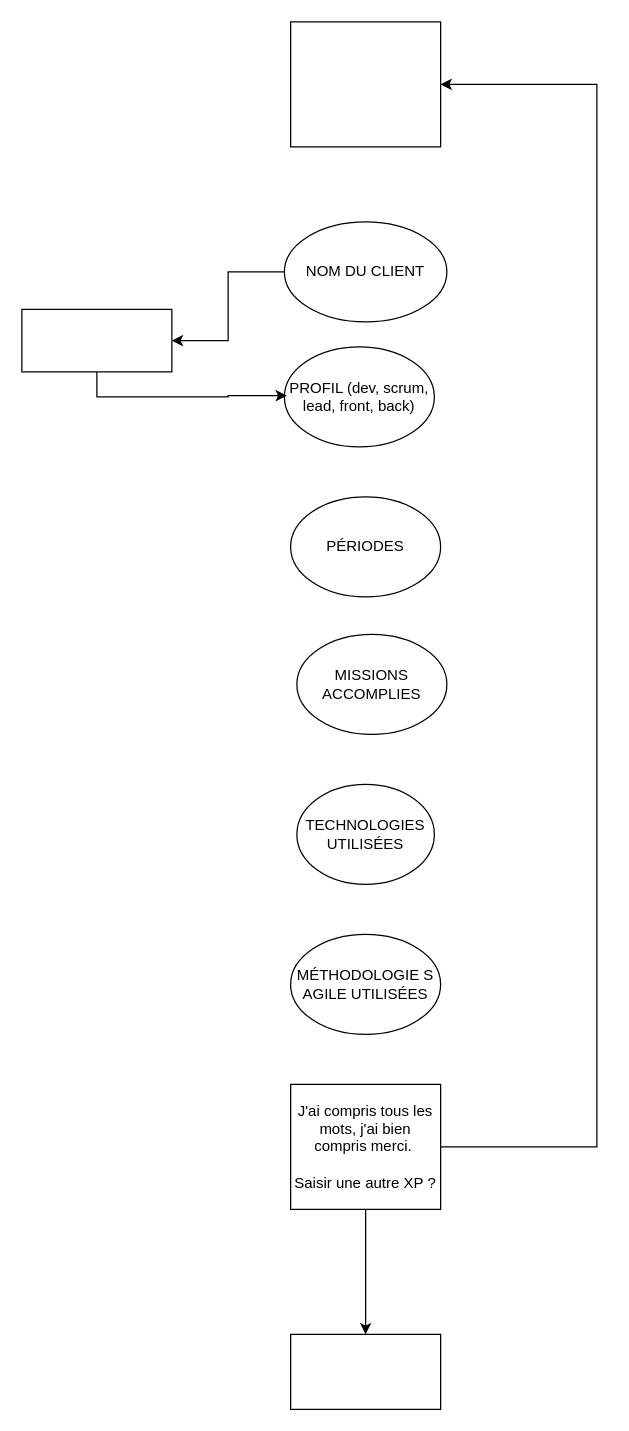
The diagram is 629 pixels wide and 1431 high, and some of its shapes have lost their labels. Here are the shapes that lost their labels. From the top down, the box of each, then its label:
(289, 21, 441, 147): J'ai besoin de toi pour me décrire ta dernière expérience. Quel est ...
(21, 308, 172, 372): Description verbalisée du client
(289, 1333, 441, 1409): Voilà le template que tu peux copier-coller dans Napta (lien de la doc)
